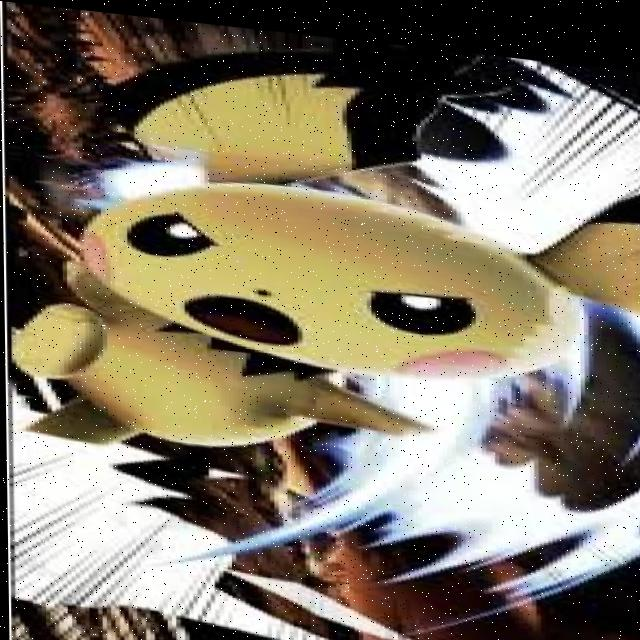pichu: (0, 2, 640, 474)
